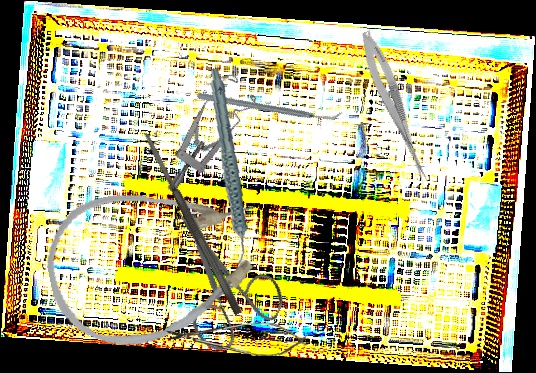Cannula: (35, 167, 277, 360)
Chopper: (195, 41, 344, 170)
Handpiece: (192, 68, 262, 266)
Iris Scissors: (131, 200, 305, 369)
Micro Scissor: (354, 28, 438, 186), (164, 319, 309, 358)
Spatula Surgical: (141, 130, 244, 317)
Speculum: (132, 66, 276, 195)
